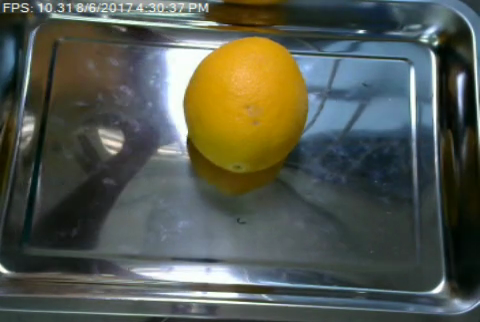Orange: (183, 35, 310, 172)
